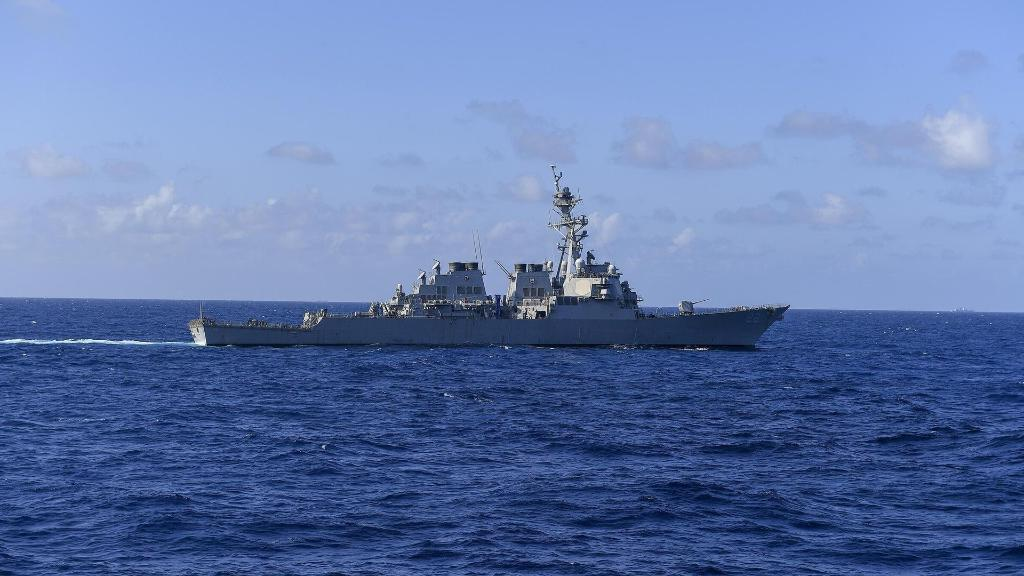Warship: (180, 161, 800, 356)
